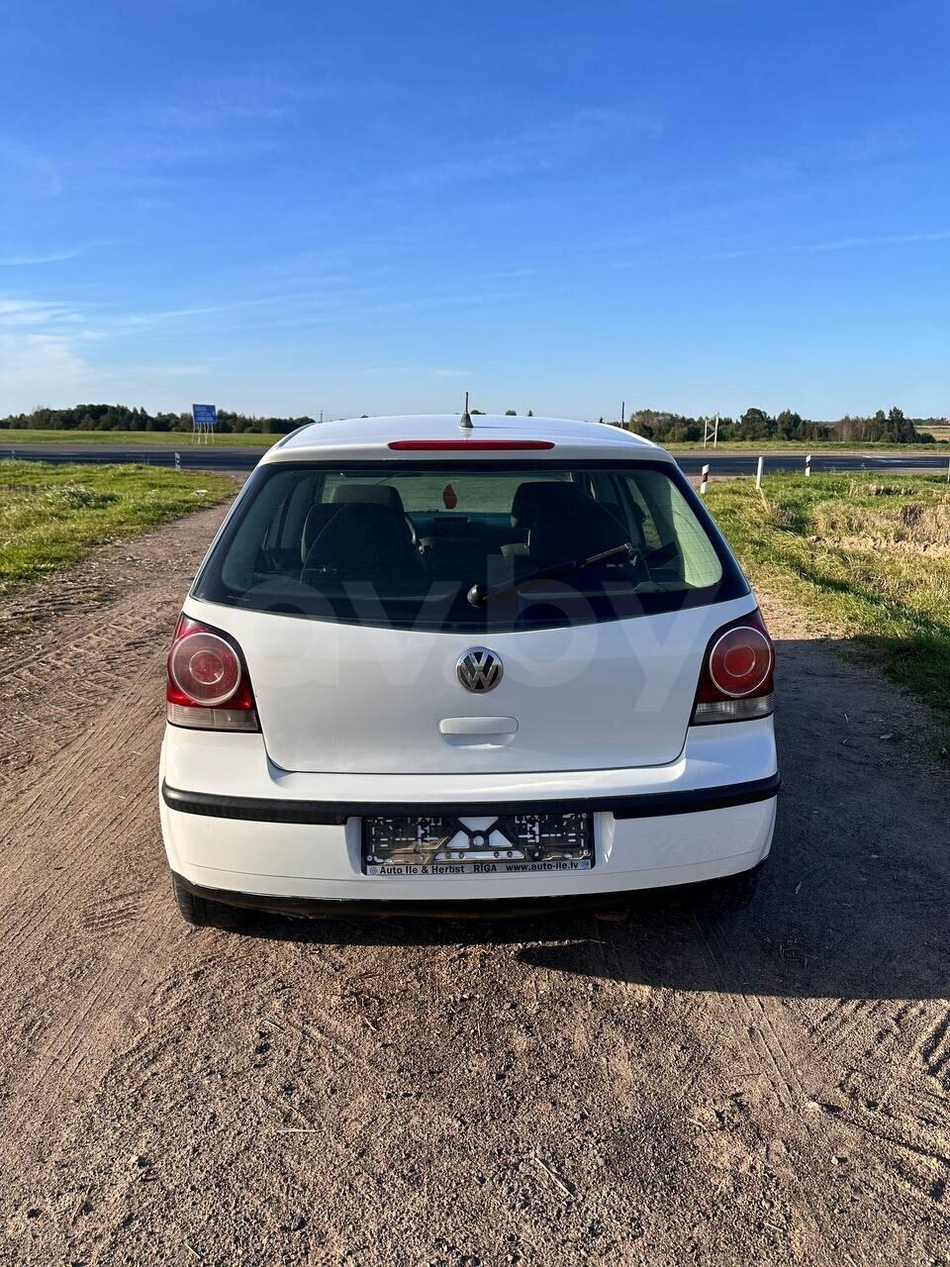Polo_2005-2009: (136, 400, 788, 962)
